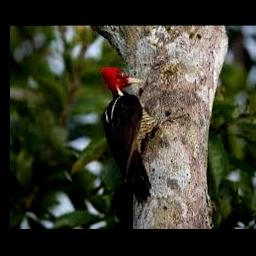Woodpecker: (100, 66, 186, 204)
